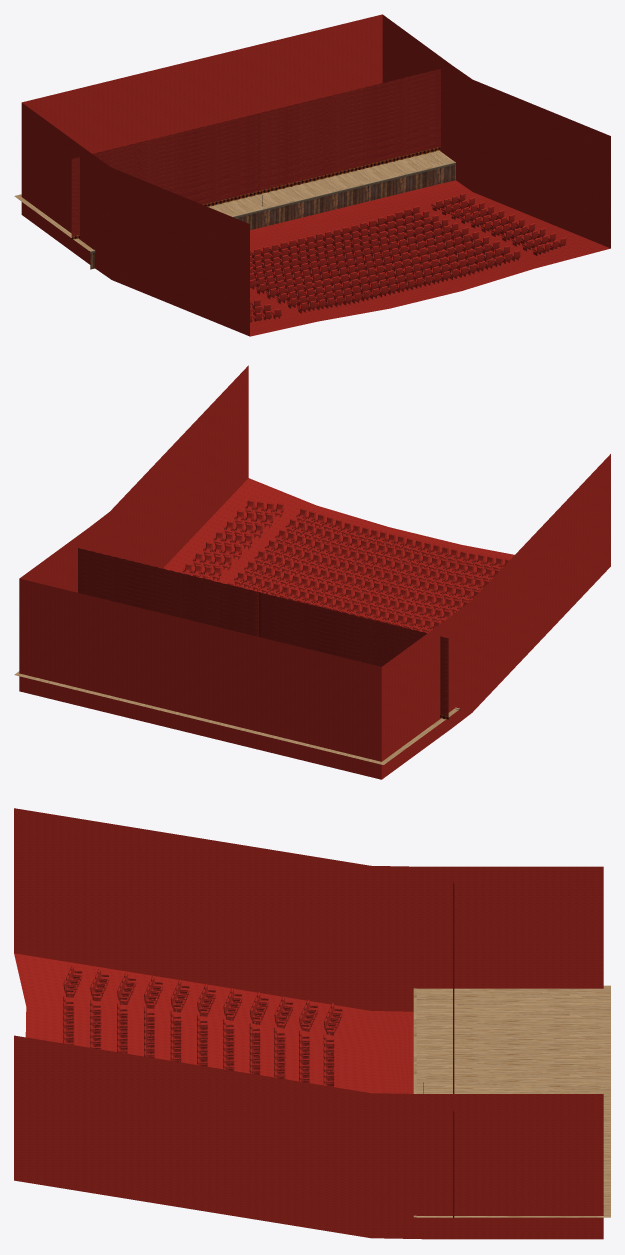
The model's file is space.FBX.
3 views of the same model, one above another, from view 1: azimuth 30°, elevation 25°; view 2: azimuth 150°, elevation 25°; view 3: azimuth 270°, elevation 25° (orthographic). The views are drawn at different scales.
Visible parts, largest first — view 1: room, curtain_2, curtain_1, stage; view 2: room, curtain_2, curtain_1, stage; view 3: room, stage.
Boxes of the visible parts, <box> form: room: <box>21,14,610,336</box>; curtain_2: <box>260,69,440,193</box>; curtain_1: <box>71,113,260,240</box>; stage: <box>14,150,455,269</box>; room: <box>19,365,610,779</box>; curtain_2: <box>78,548,258,636</box>; curtain_1: <box>259,592,448,719</box>; stage: <box>14,671,460,764</box>; room: <box>14,808,603,1239</box>; stage: <box>413,985,610,1217</box>.
Bounding box in the file's own units: 57.23 × 22.85 × 60.69.
7 materials, 7 textured.
